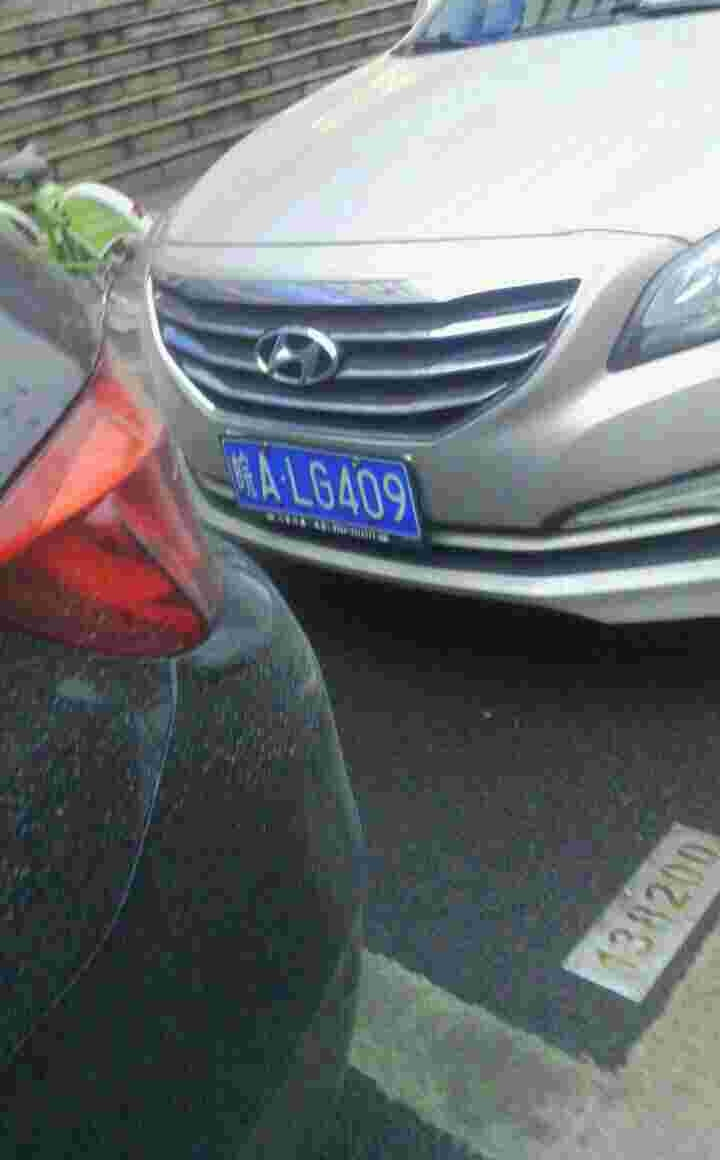license_plate: (220, 441, 425, 544)
